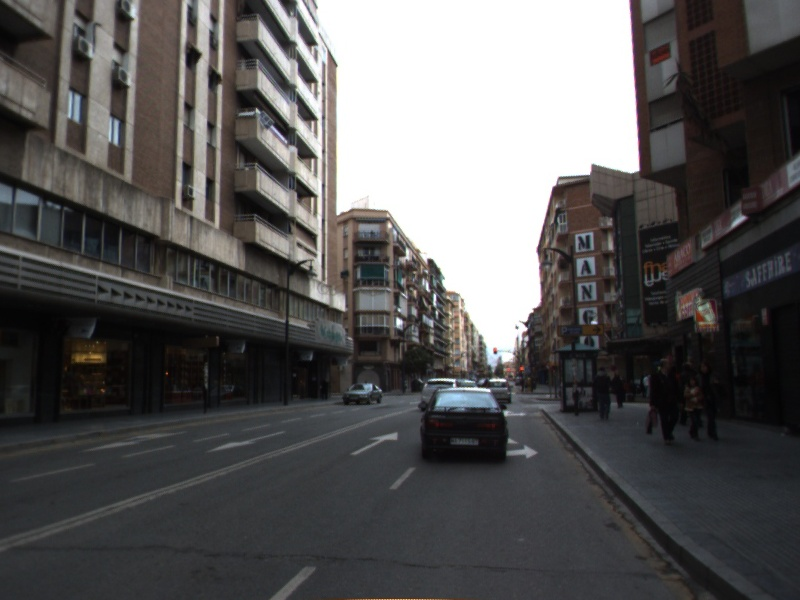STRAIGHT: (348, 430, 400, 457)
